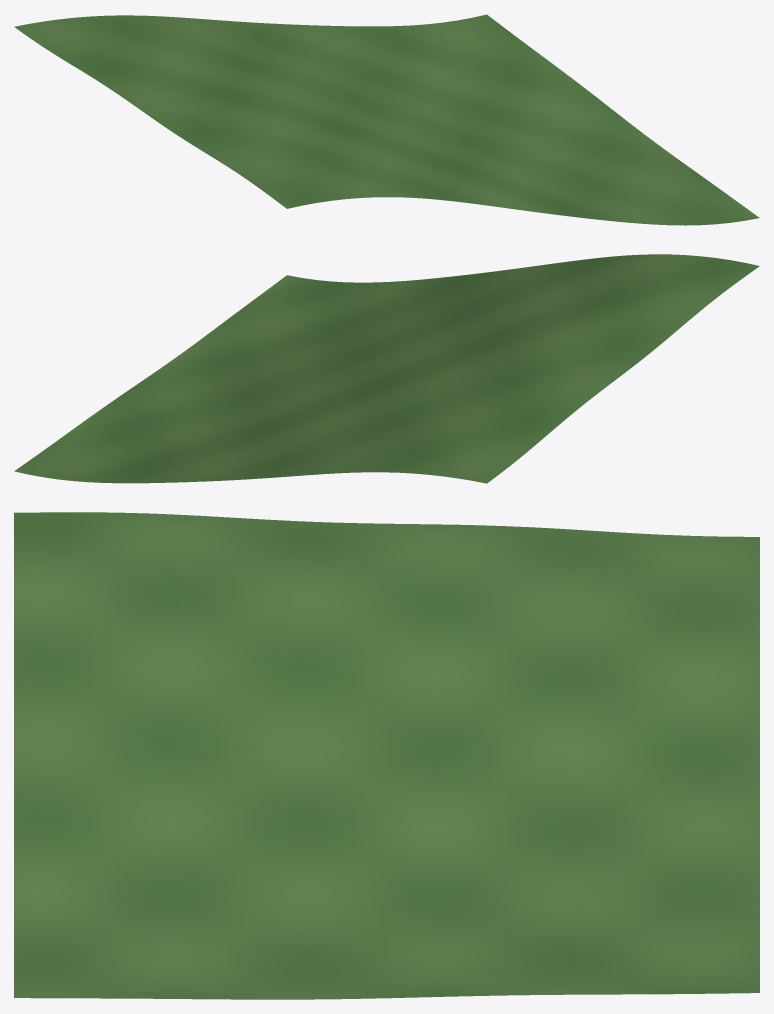
The model's file is chunk_0_4.glb.
3 views of the same model, one above another, from view 1: azimuth 30°, elevation 25°; view 2: azimuth 150°, elevation 25°; view 3: azimuth 270°, elevation 25° (orthographic). The views are drawn at different scales.
Size of the model in its own units: 512 by 130 by 512.
